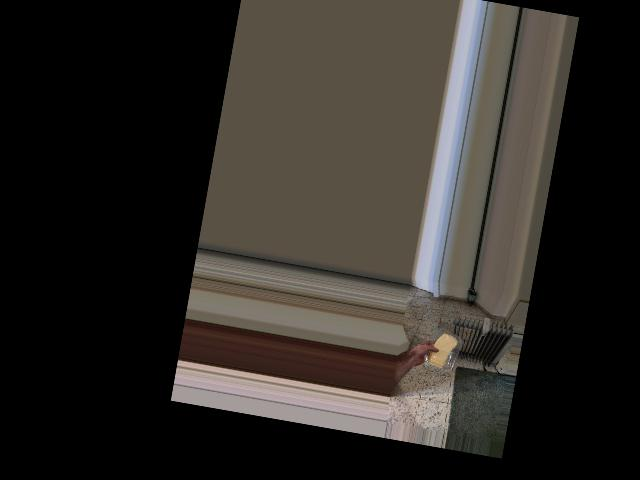cheese: (424, 327, 460, 372)
